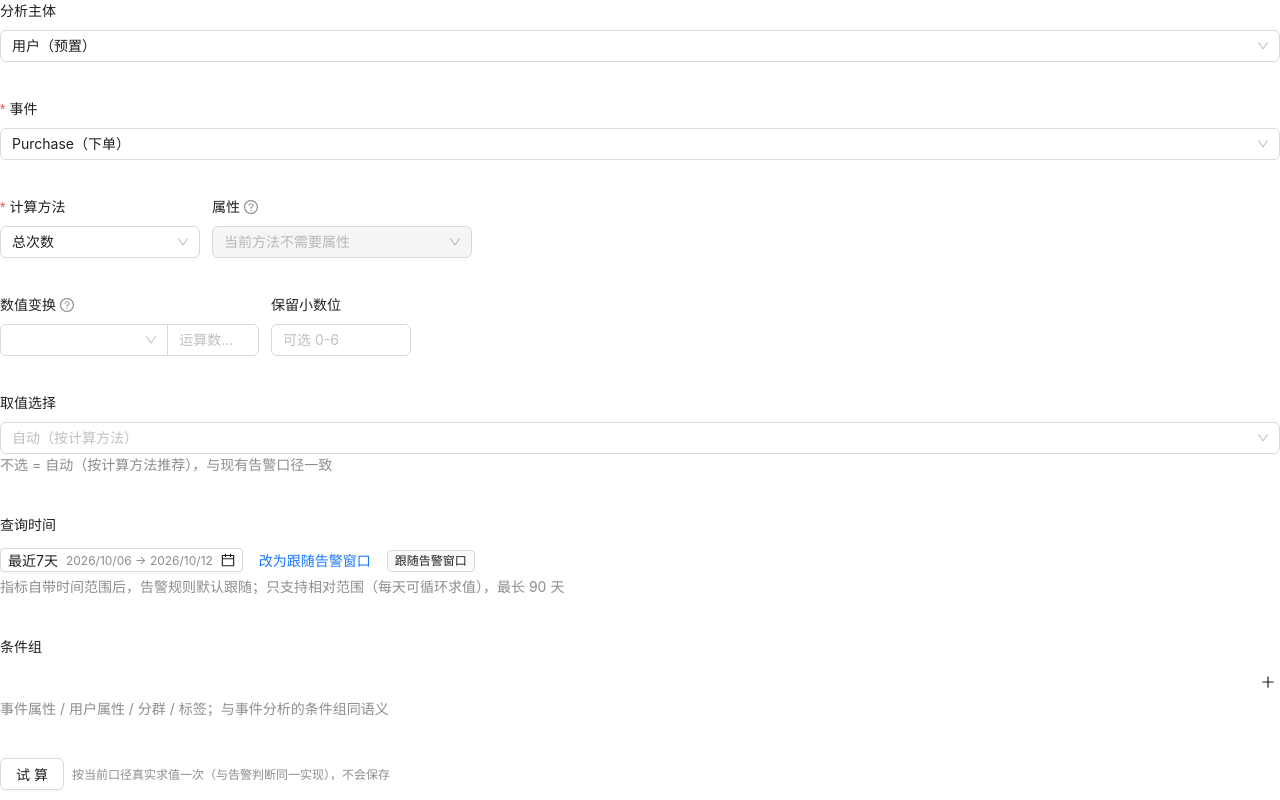
it: 指标口径表单 › 试算失败就地给原因（不弹 toast 吞掉）
The image size is (1280, 800).
Click the button "试 算" at coordinates (32, 774), box [0,758,64,790]
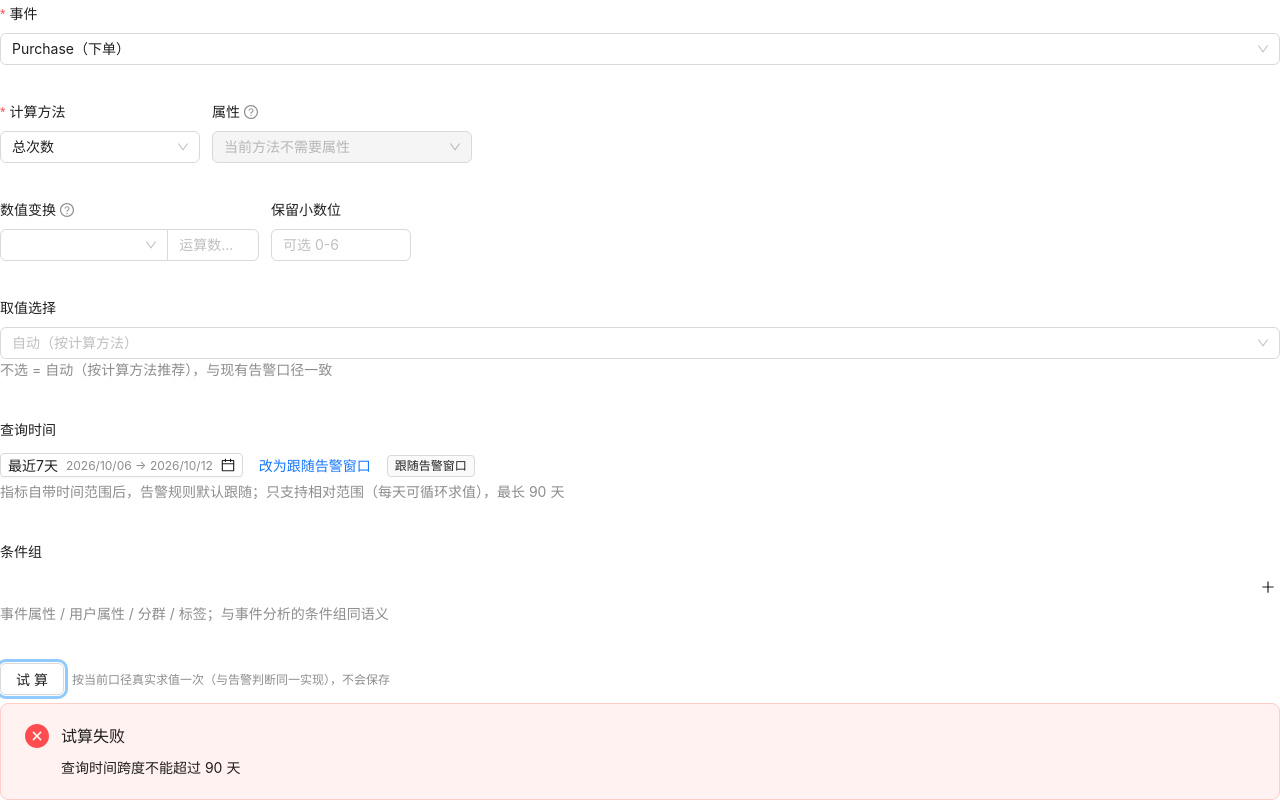
Now the text "试算失败" is shown, box [61,726,125,746]
Now the text "查询时间跨度不能超过 90 天" is shown, box [61,759,240,776]
